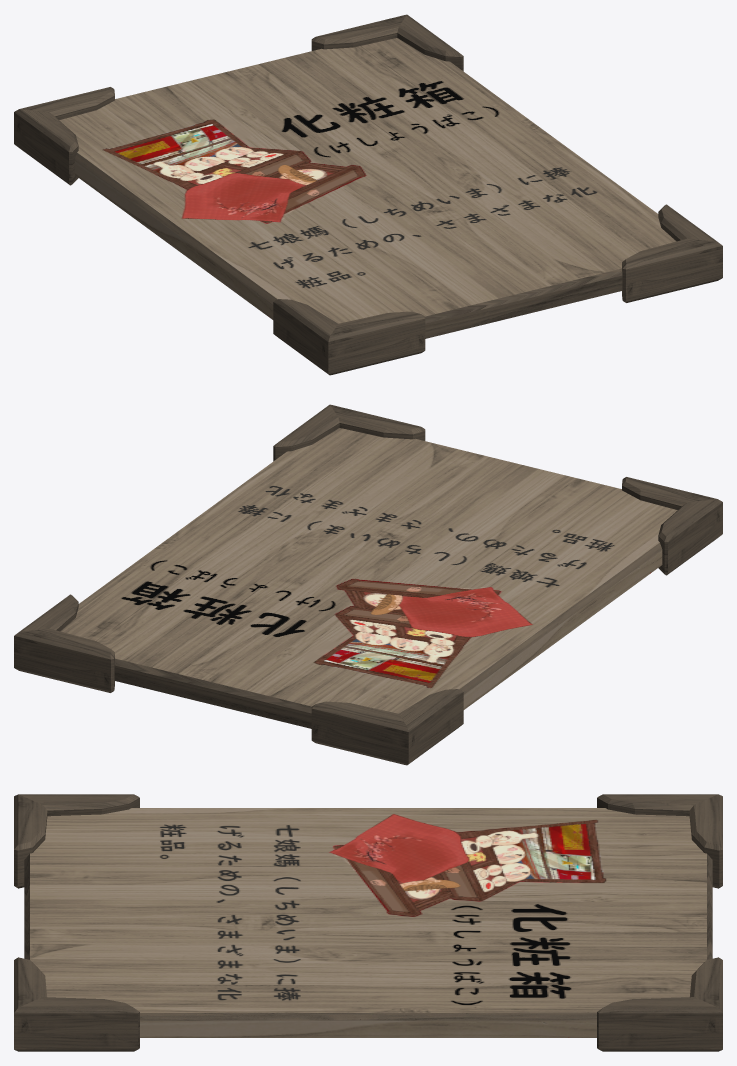
Rendered from Manual.fbx.
The picture shows the model from 3 angles, top to bottom: view 1: azimuth 30°, elevation 25°; view 2: azimuth 150°, elevation 25°; view 3: azimuth 270°, elevation 25°; orthographic projection. The views are drawn at different scales.
Parts seen in each view (by area): view 1: Cube.006; view 2: Cube.006; view 3: Cube.006.
Part boxes in pixels (x1,y1,x2,y2): Cube.006: [14, 14, 722, 375]; Cube.006: [14, 404, 722, 765]; Cube.006: [14, 794, 722, 1051].
Bounding box in the file's own units: 7.46 × 0.7053 × 10.3.
2 materials, 2 textured.
